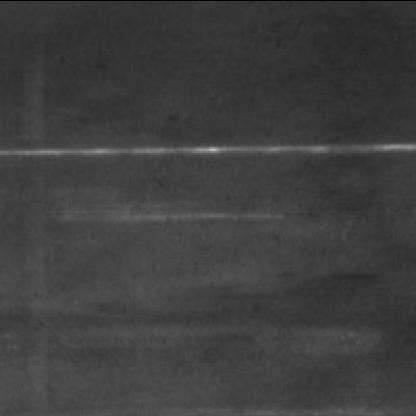scratches: (2, 131, 414, 158)
